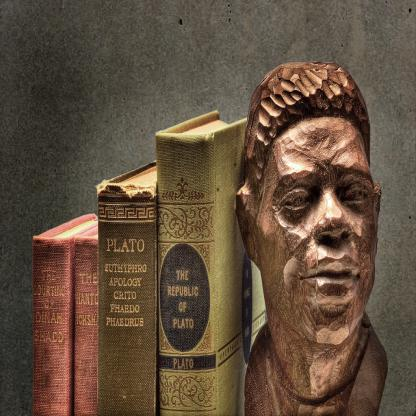book: (161, 108, 271, 416), (96, 156, 157, 416), (33, 210, 95, 416), (76, 214, 100, 416)
